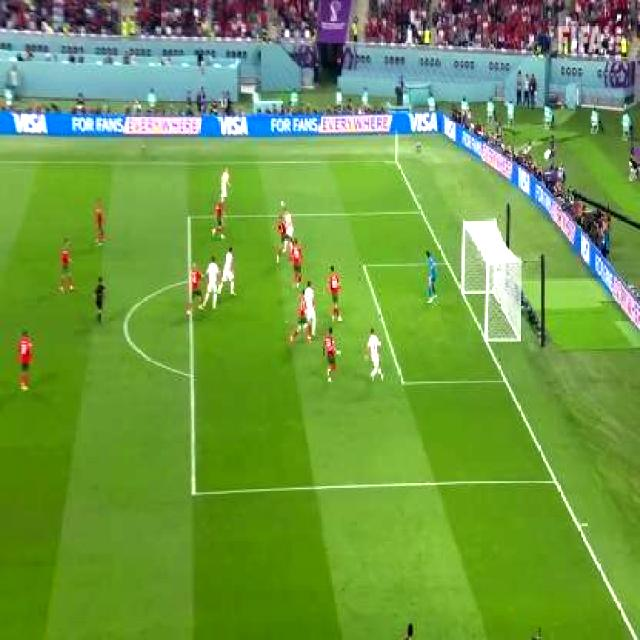bigarea_bottom_inner: (186, 477, 202, 503)
bigarea_bottom_outter: (548, 469, 562, 489)
bigarea_top_inner: (182, 209, 192, 225)
bigarea_top_outter: (417, 205, 425, 217)
bottom_arc_area_intersection: (183, 365, 195, 386)
corner: (391, 157, 400, 165)
smallarea_bottom_inner: (394, 369, 409, 394)
smallarea_bottom_outter: (497, 368, 512, 390)
smallarea_top_inner: (358, 257, 371, 275)
smallarea_top_outter: (443, 255, 454, 271)
top_arc_area_intersection: (184, 274, 193, 289)
